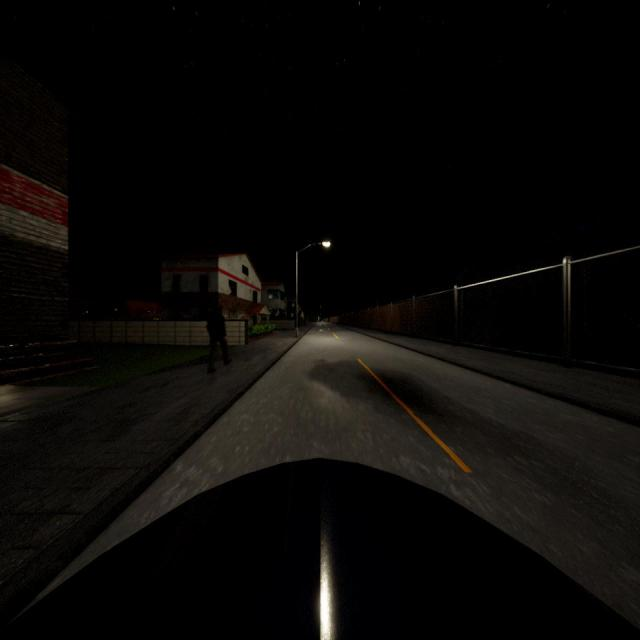Pedestrian: (207, 306, 230, 372)
Vehicle: (0, 455, 640, 640)
